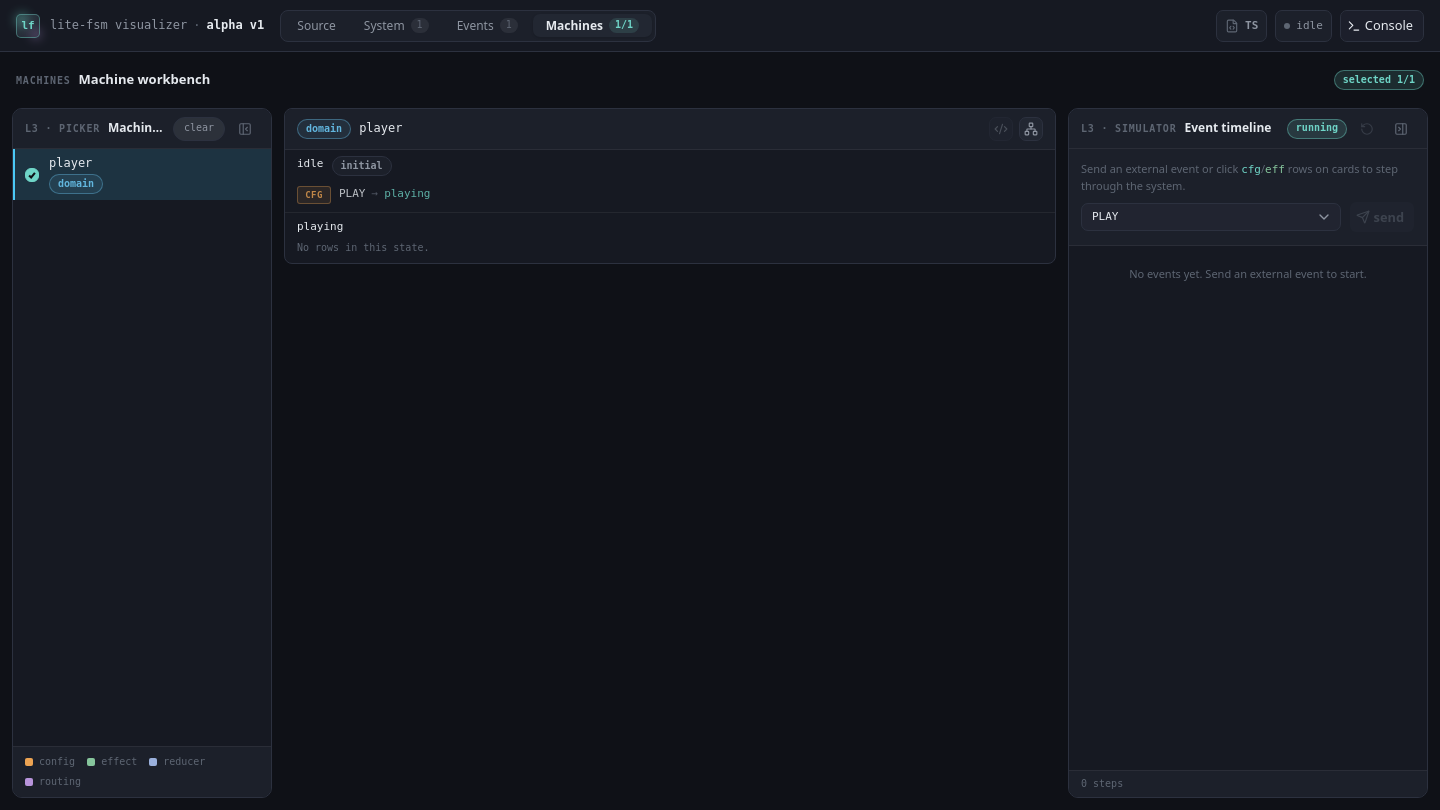
Test: оболочка Shell › открывает и закрывает machine canvas board из Machines tab
Click the button with test id "visualizer-workbench-graph-action". click: (1031,129)
box: x1=1019 y1=117 x2=1043 y2=141
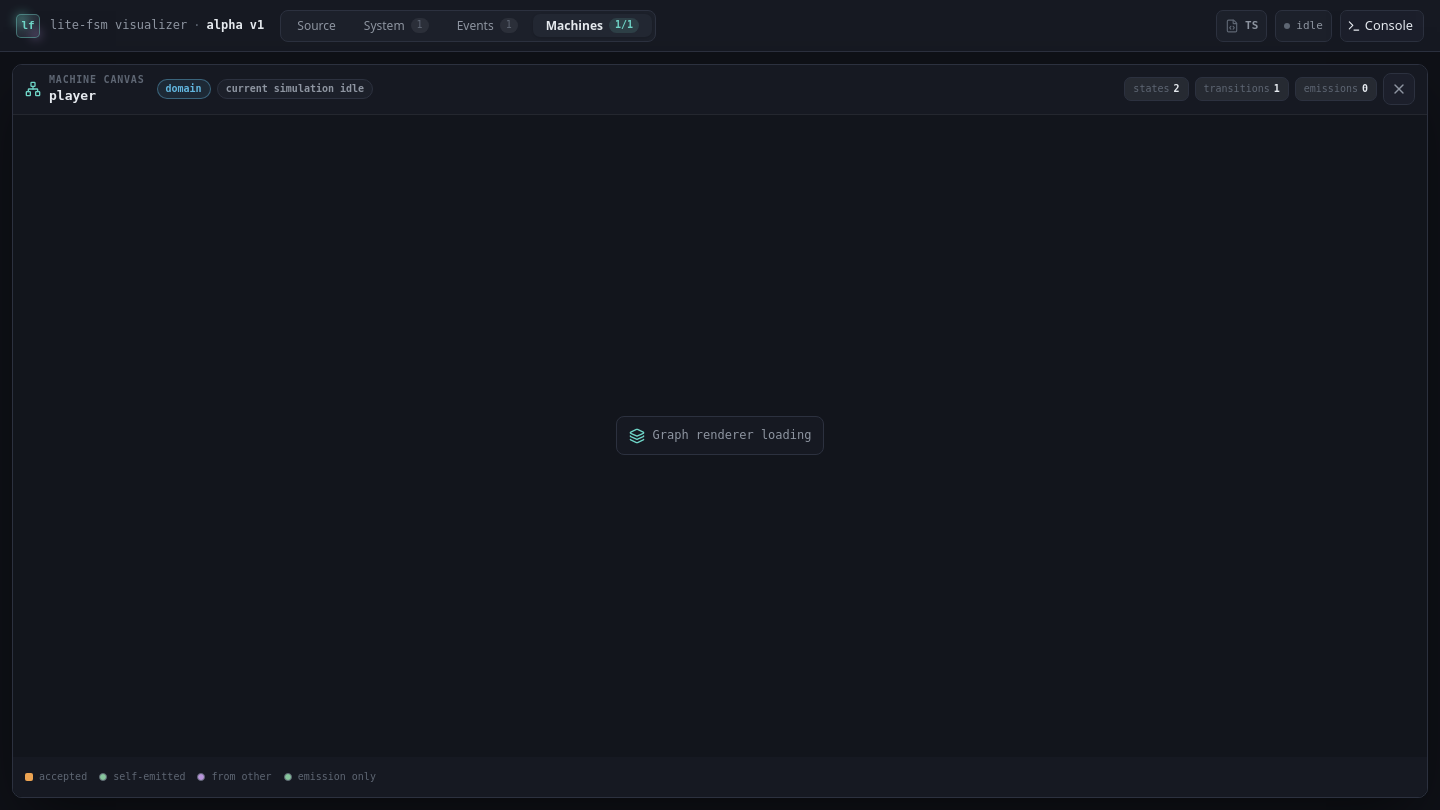
Now the element with test id "visualizer-machine-canvas-board" shows "current simulation idle"
Click the button with test id "visualizer-machine-canvas-close". click: (1399,89)
box: x1=1383 y1=73 x2=1415 y2=105
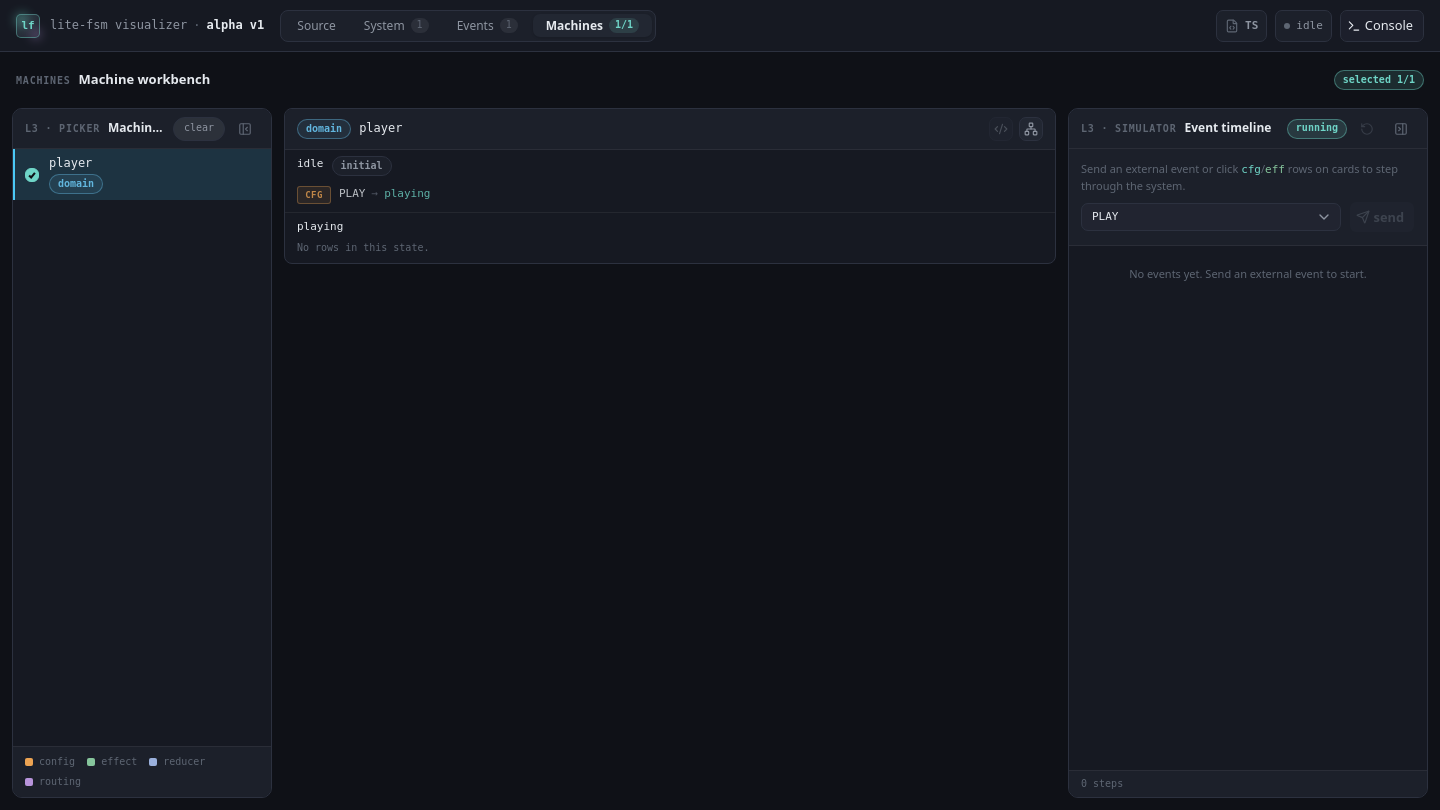
Expected: the text "running" is shown, x1=1287 y1=118 x2=1347 y2=138
Now the element with test id "visualizer-machine-canvas-board" is gone
Click the button with test id "visualizer-workbench-graph-action". click: (1031,129)
box: x1=1019 y1=117 x2=1043 y2=141
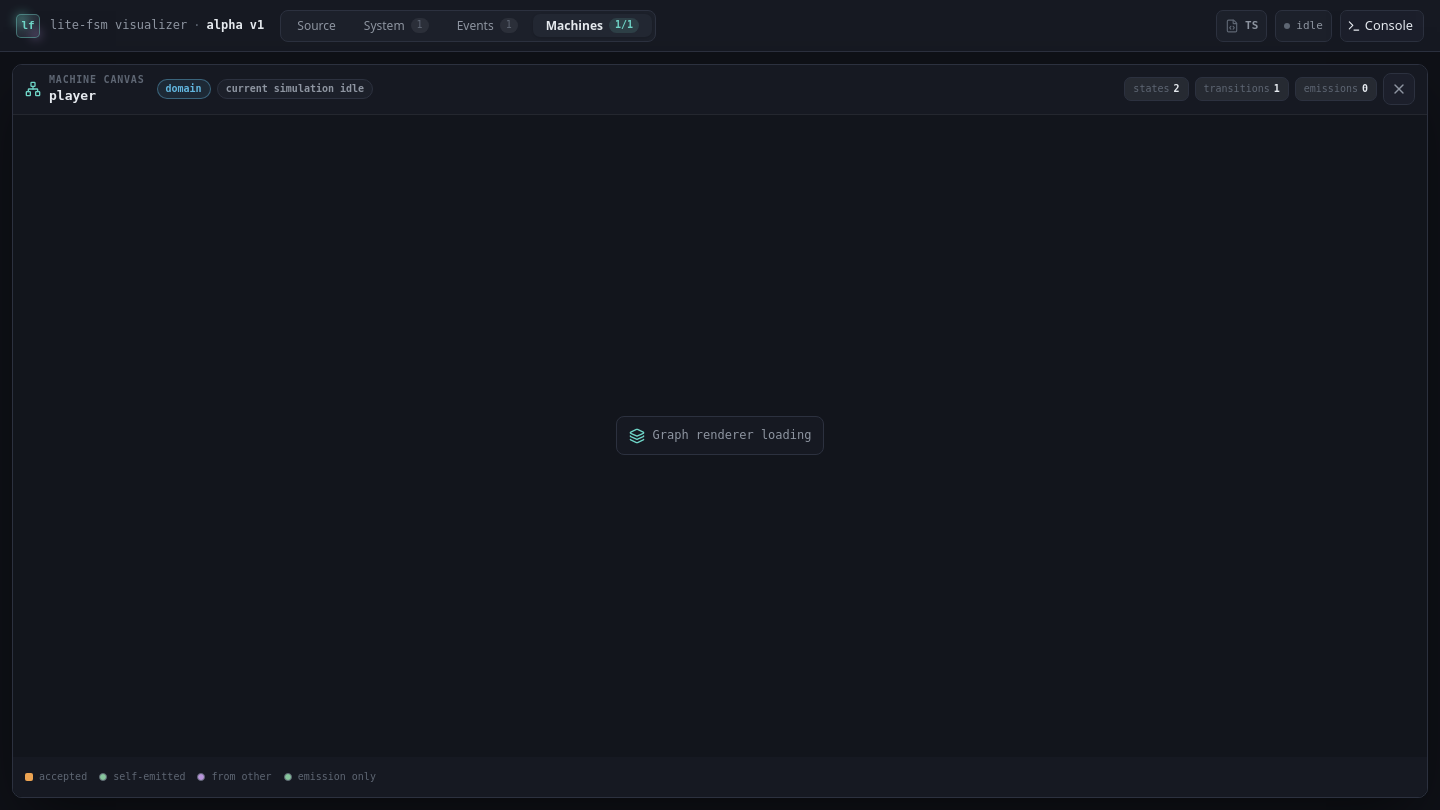
Now the element with test id "visualizer-machine-canvas-board" is shown
Press Escape
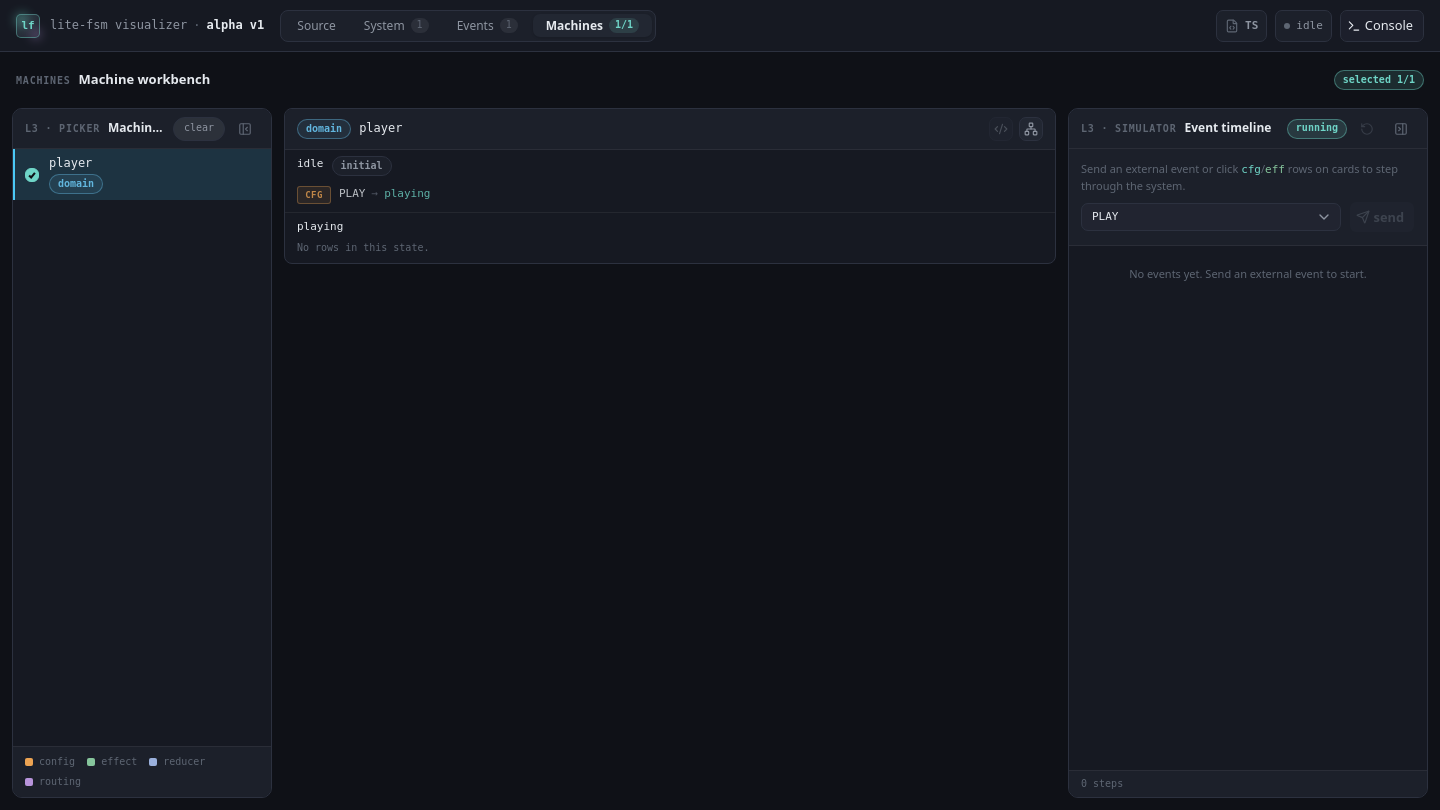
Now the element with test id "visualizer-machine-canvas-board" is gone
